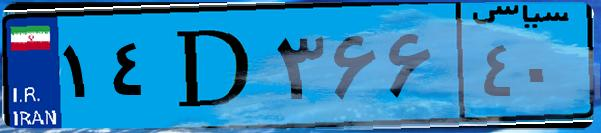0: (525, 38, 570, 115)
1: (57, 26, 110, 100)
3: (270, 28, 330, 110)
4: (475, 38, 525, 113), (110, 28, 158, 98)
6: (385, 28, 445, 110), (330, 28, 385, 110)
D: (158, 12, 270, 120)
